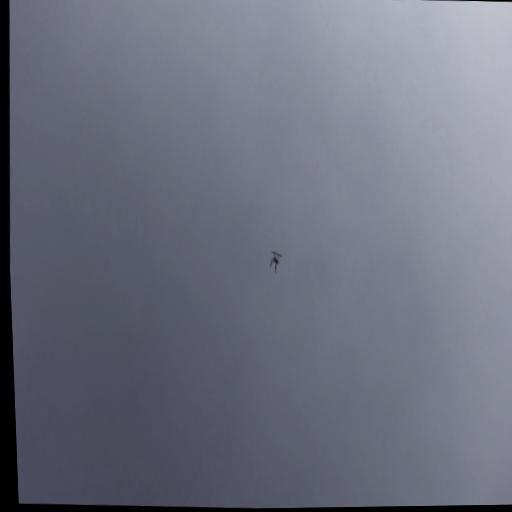drones: (268, 249, 283, 274)
